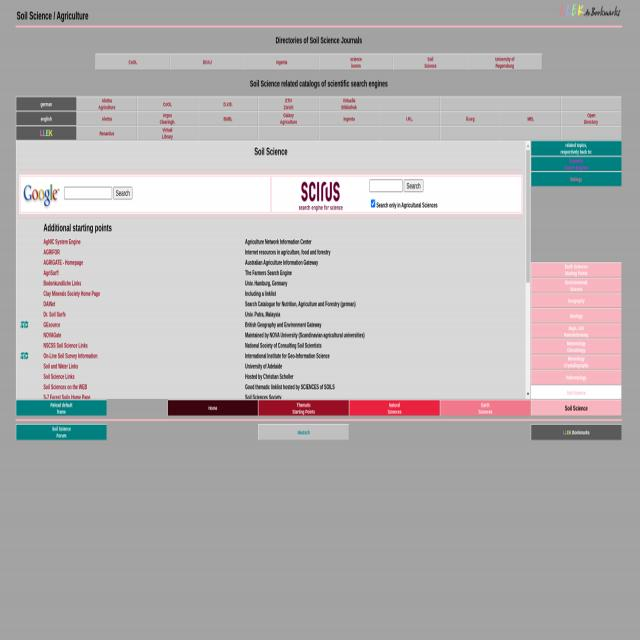button: (295, 179, 345, 213), (258, 424, 349, 441), (16, 400, 106, 416), (258, 400, 348, 416), (350, 400, 440, 416), (440, 400, 530, 416), (531, 338, 621, 354), (532, 140, 622, 156), (531, 156, 621, 172), (530, 354, 622, 369), (16, 424, 107, 439), (531, 400, 622, 415), (560, 2, 622, 24), (168, 400, 258, 415), (532, 425, 622, 440), (532, 262, 622, 277), (531, 172, 622, 186), (531, 293, 622, 307), (531, 309, 621, 323), (531, 370, 621, 384), (531, 278, 621, 292), (530, 324, 622, 337), (531, 386, 621, 399), (22, 180, 60, 208), (17, 112, 76, 126), (17, 127, 76, 140), (17, 98, 76, 110), (526, 150, 530, 282), (404, 180, 423, 192), (114, 187, 132, 199), (526, 389, 530, 398), (526, 141, 530, 149)
field: (64, 186, 112, 199), (370, 180, 402, 191), (371, 198, 375, 208)
